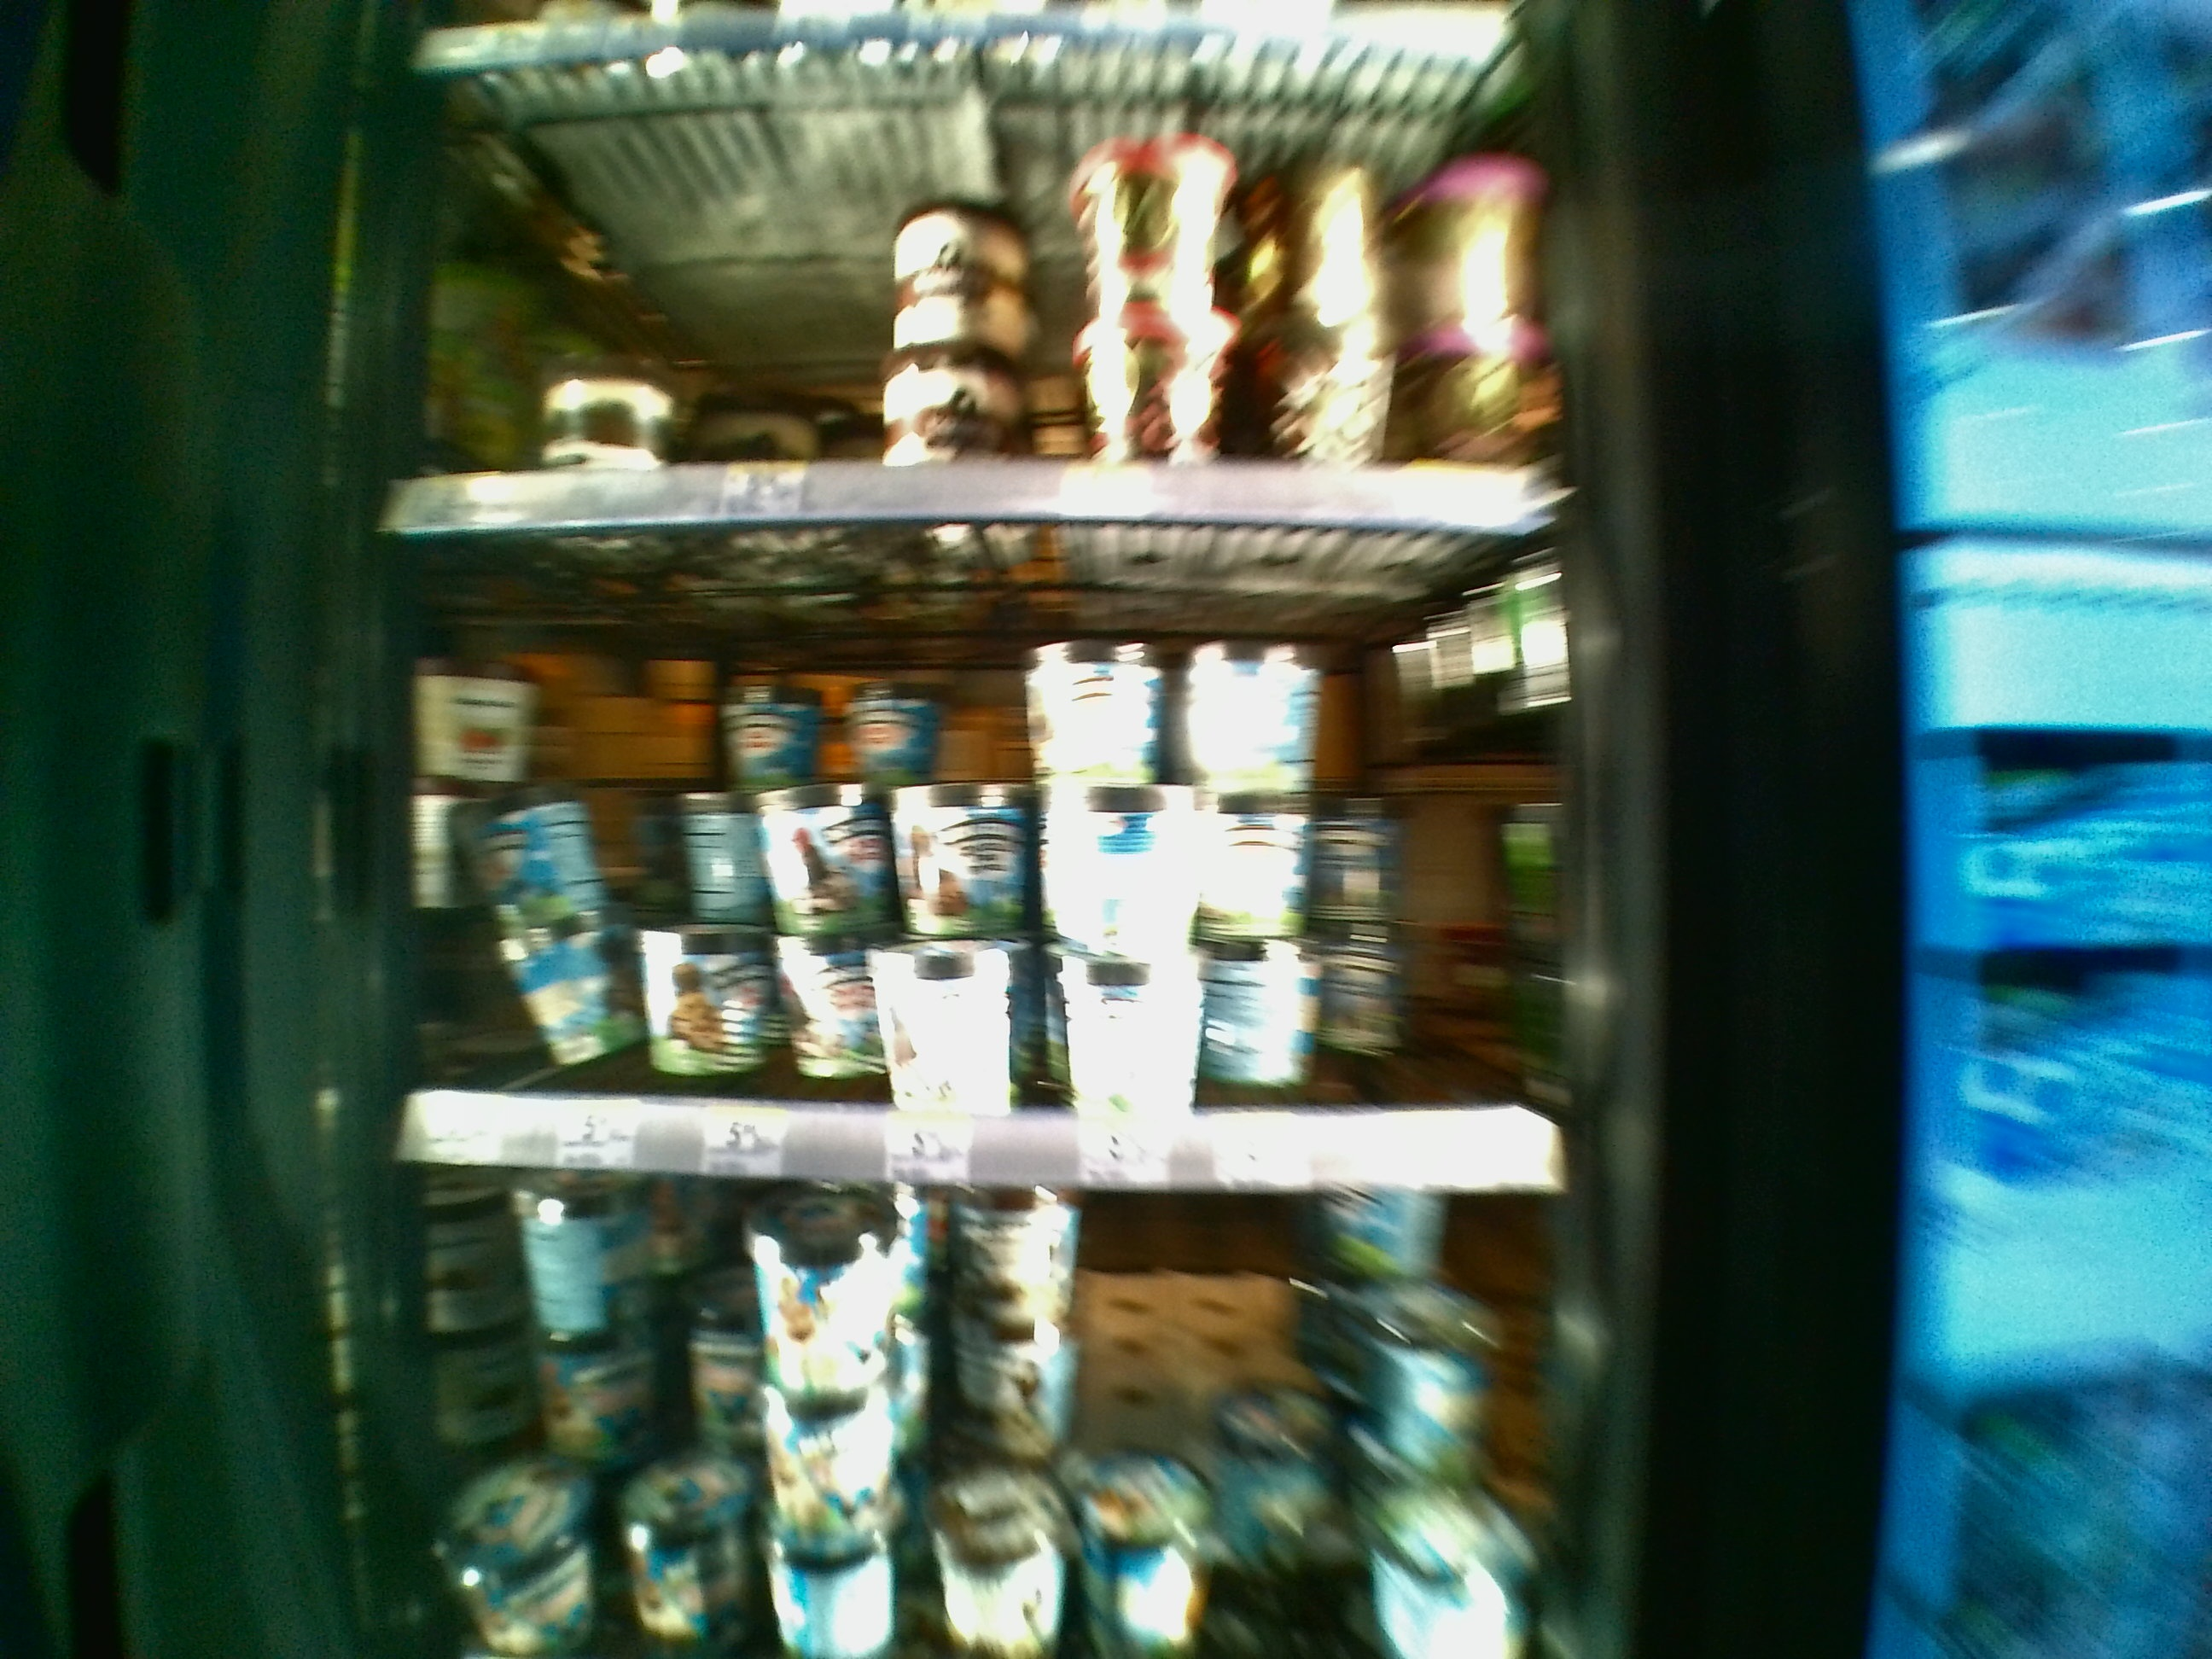shelf: (401, 552, 1566, 1185), (392, 63, 1561, 526)
